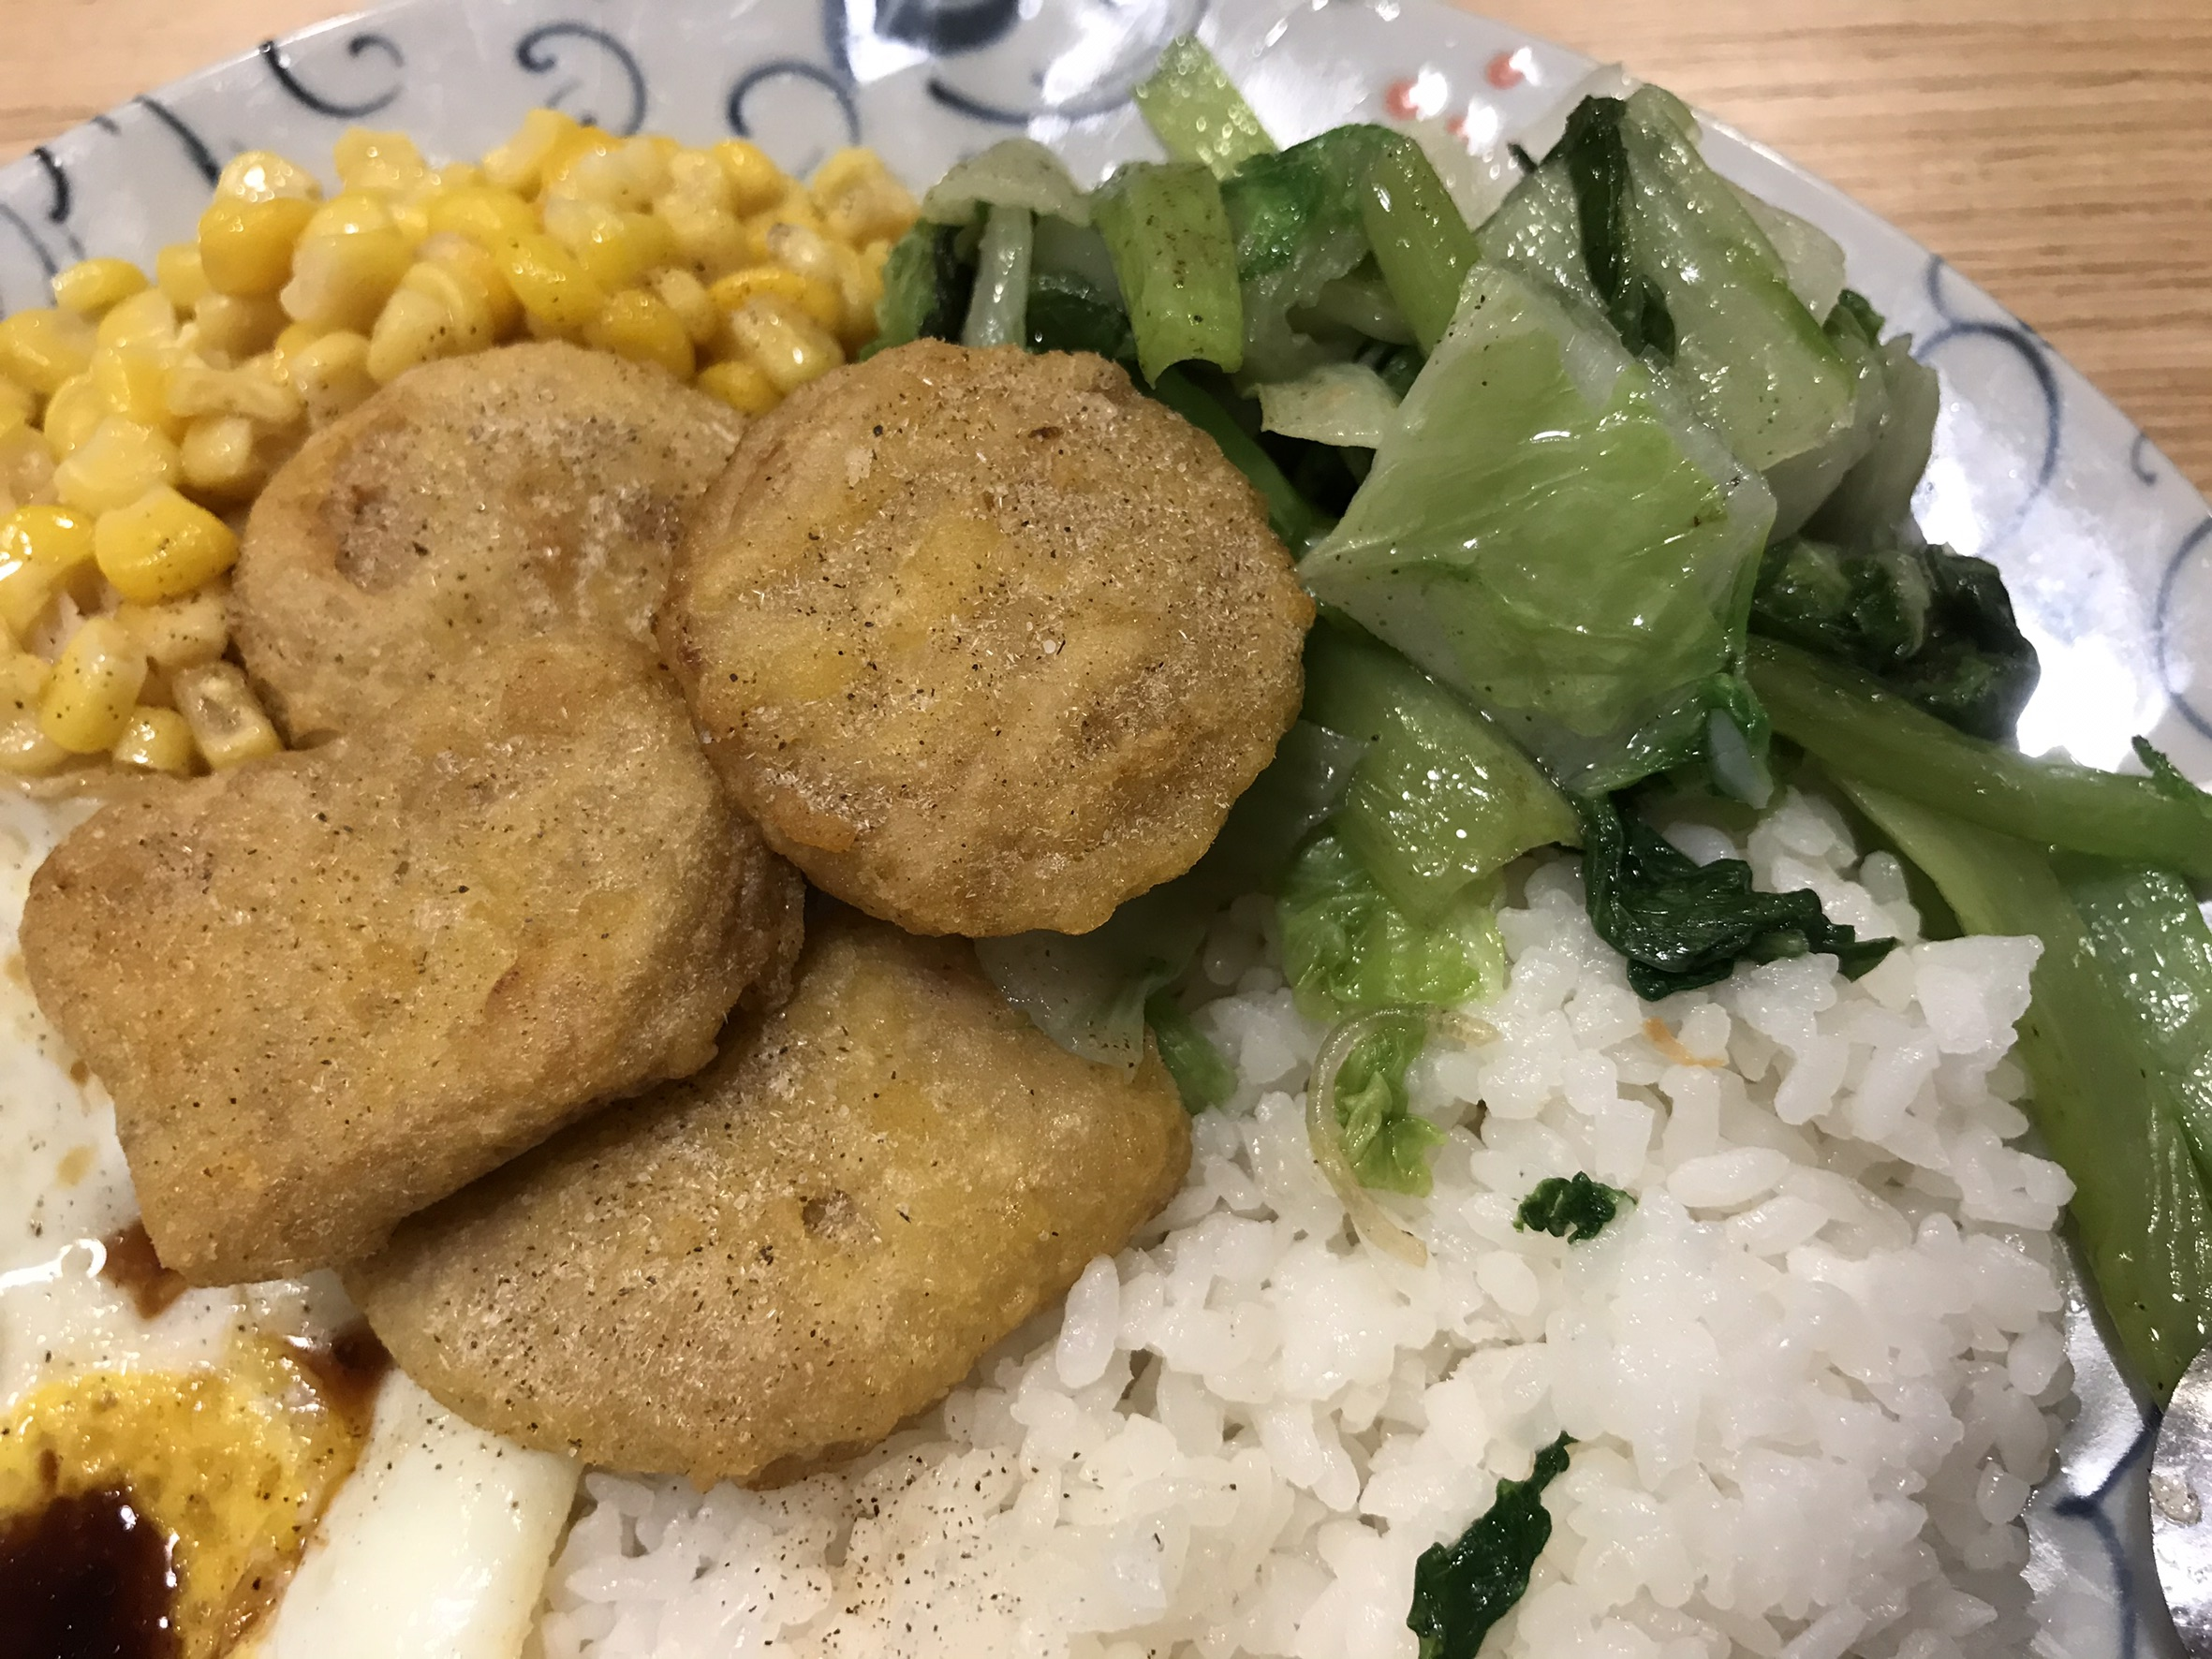chicken_nuggets: (23, 350, 1297, 1480)
rice: (1020, 1272, 2055, 1659)
